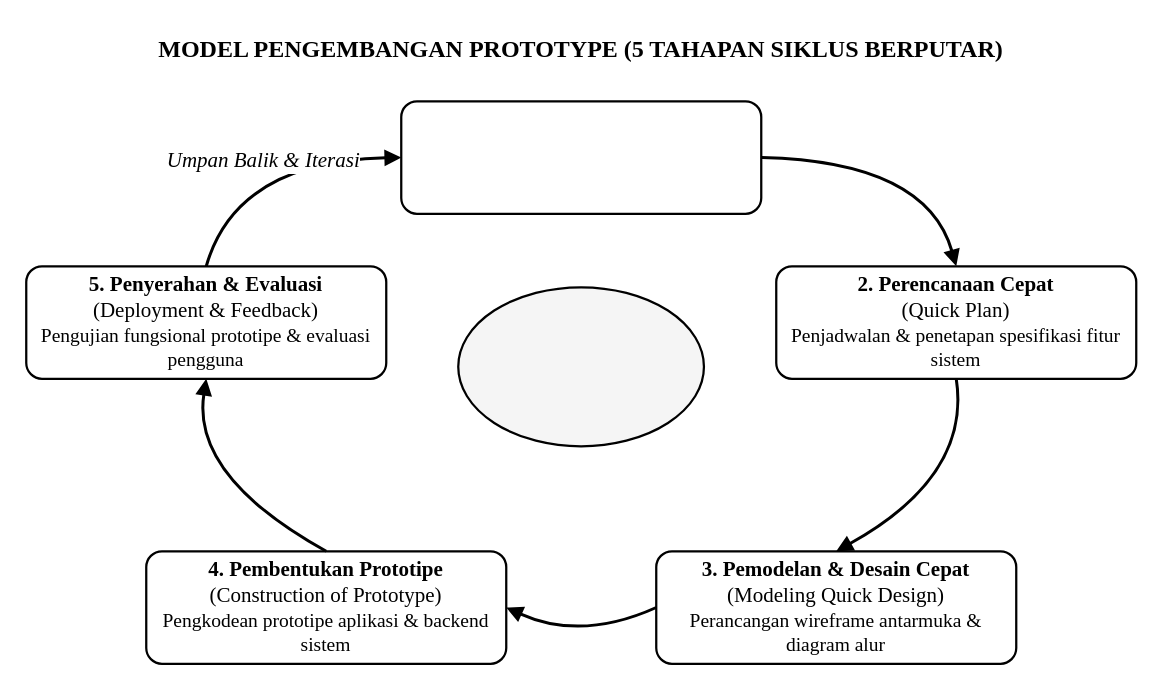
Image size: 1164x690. Some labels were removed from this diagram. The shapes that lost their labels are listed below. From the top down, each one's centre as x and y in pixels, then its label:
At [580,156]: "1. Komunikasi (Communication) Identifikasi kebutuhan & analisis awal pengguna".
At [580,366]: "PROSES SIKLUS ITERATIF (Berulang hingga kebutuhan sistem terpenuhi)".
